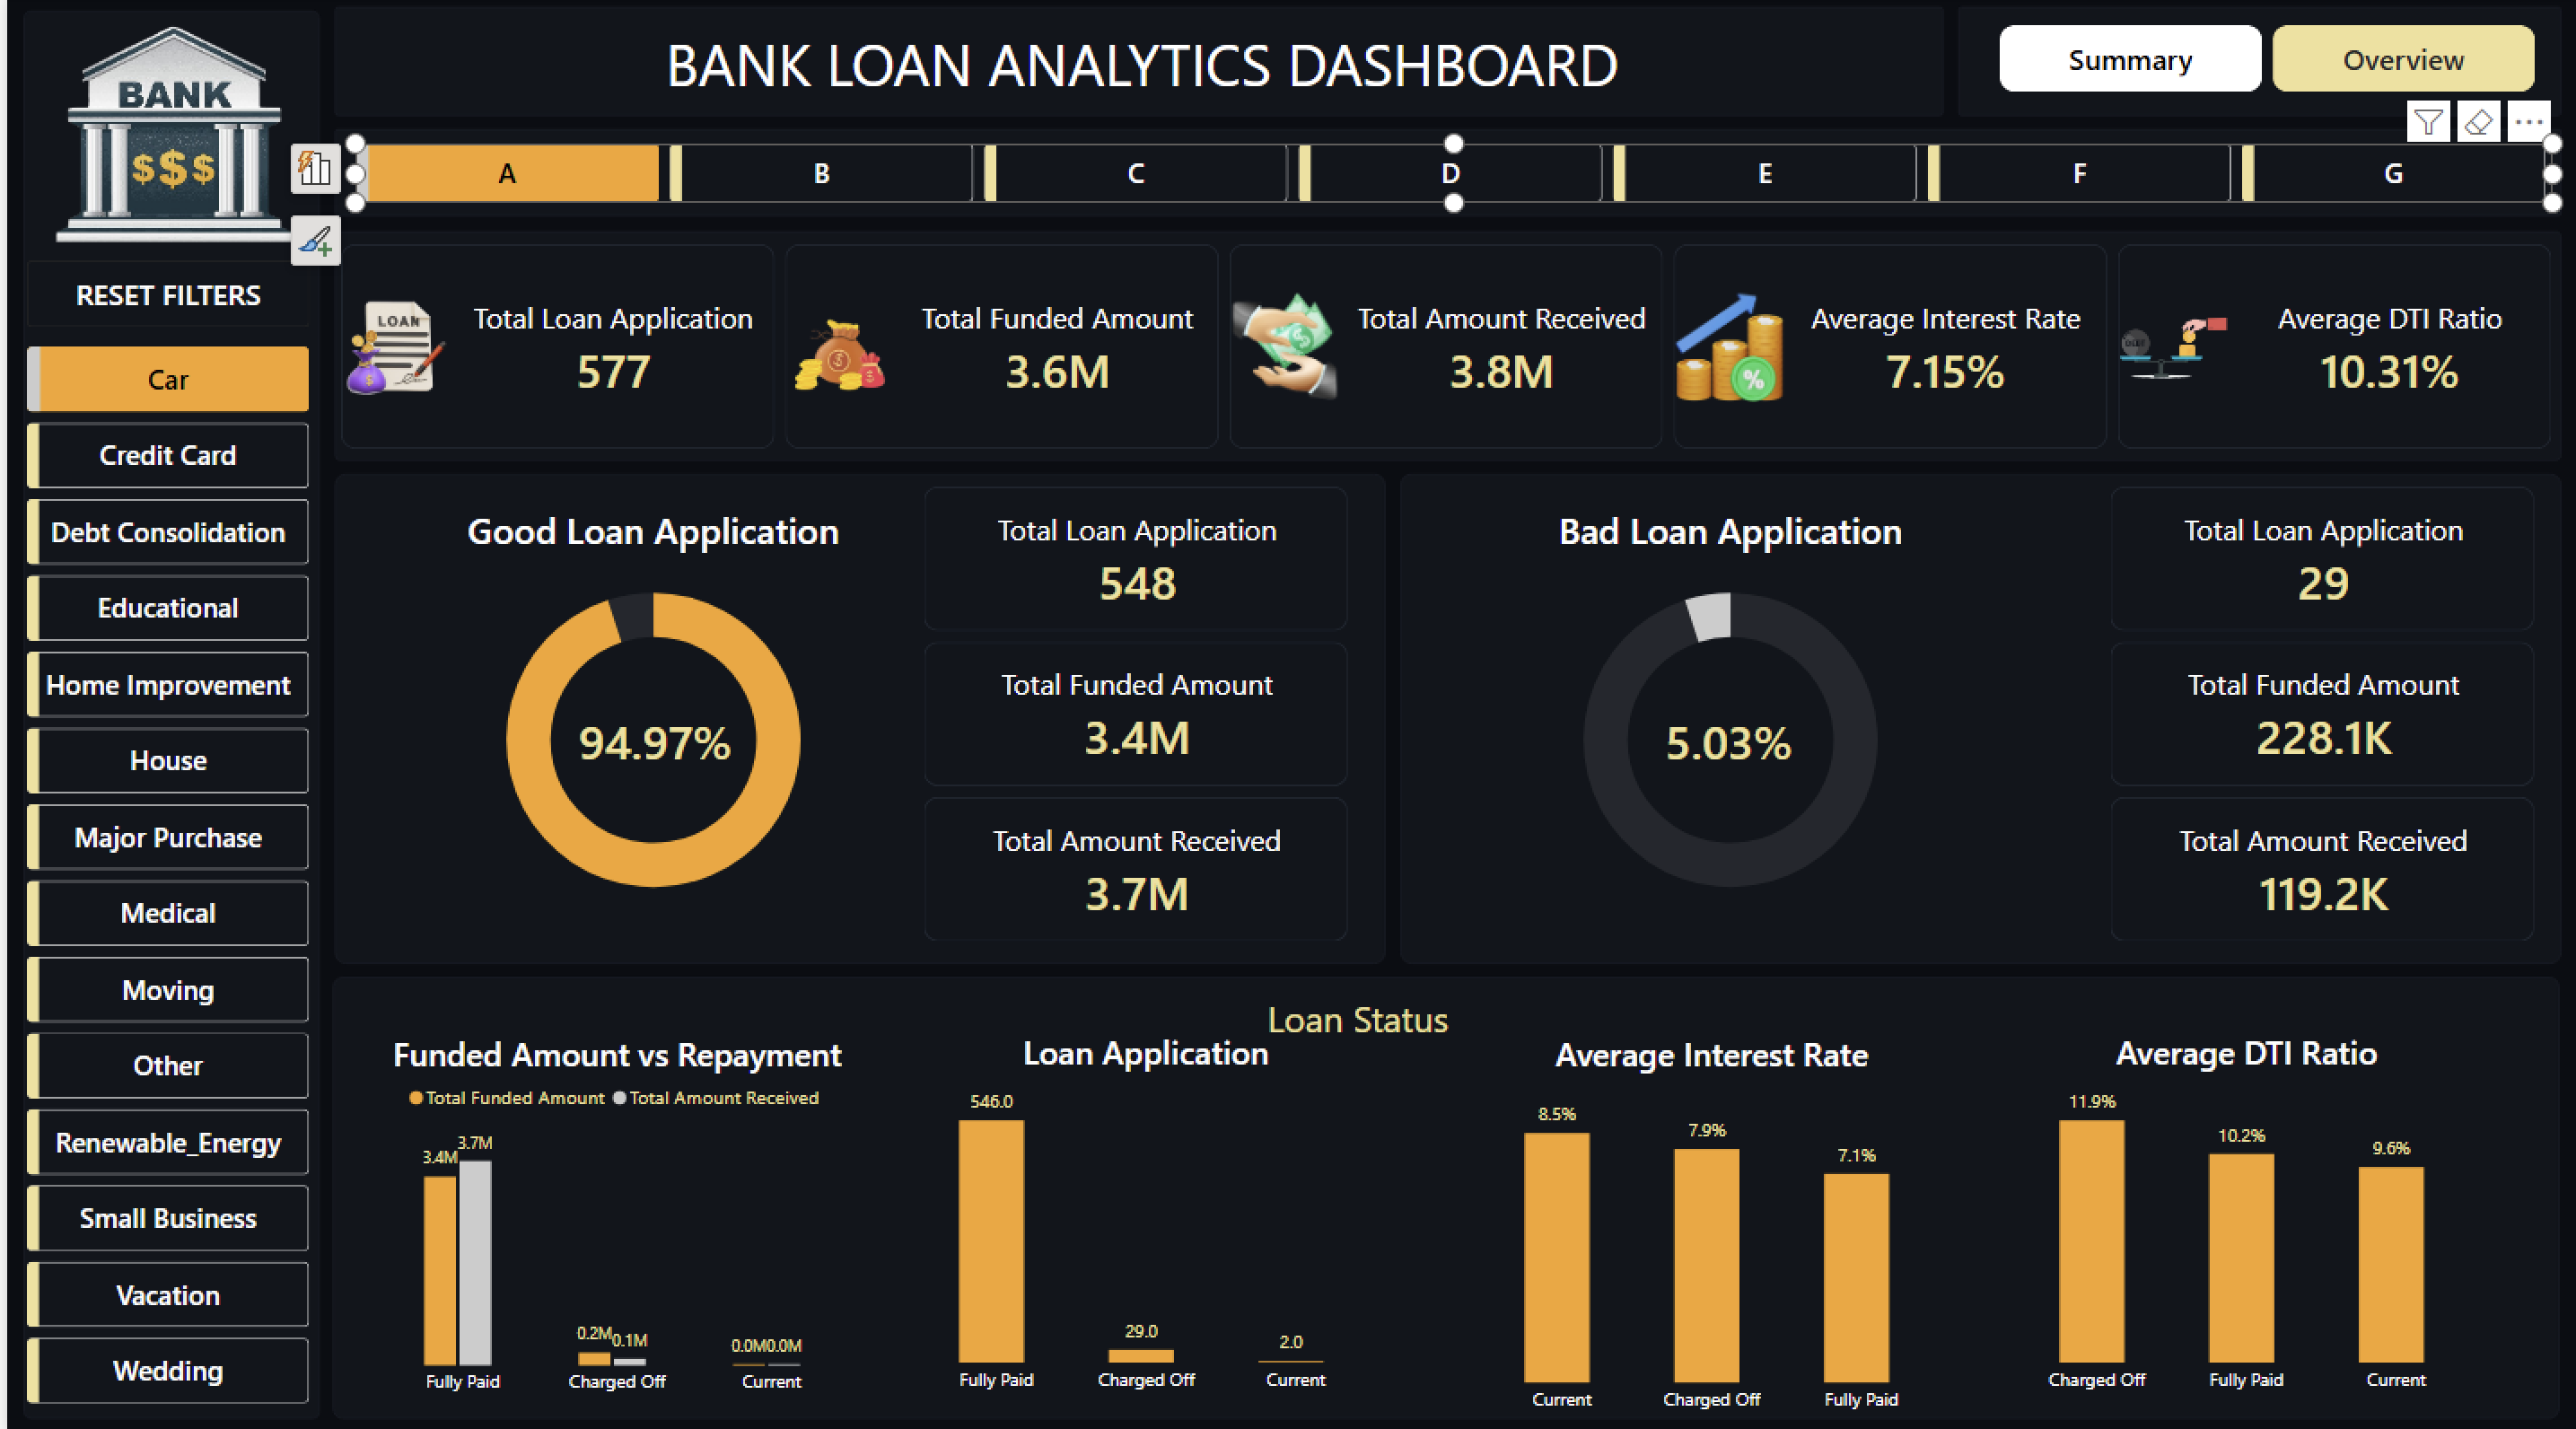

Layout of this report page (visuals, bound fields, positions):
{"tool":"powerbi","page":{"name":"Summary","canvas":[1920,1080],"ordinal":0},"visuals":[{"type":"cardVisual","fields":{"Data":["financial_loan.Total Loan Application","financial_loan.Total Funded Amount","financial_loan.Total Amount Received","financial_loan.Average Interest Rate","financial_loan.Average DTI Rate"]},"box":[250,187.8,1653.3,153.3],"z":0},{"type":"donutChart","title":"Good Loan Application","fields":{"Category":["financial_loan.Good_vs_Bad_Loan"],"Y":["financial_loan.Total Loan Application"]},"box":[272.9,368.6,421.4,342.9],"z":1000},{"type":"donutChart","title":"Bad Loan Application","fields":{"Category":["financial_loan.Good_vs_Bad_Loan"],"Y":["financial_loan.Total Loan Application"]},"box":[1077.1,368.6,421.4,342.9],"z":2000},{"type":"cardVisual","fields":{"Data":["financial_loan.Good Loan %"]},"box":[394.3,514.3,180,88.6],"z":3000},{"type":"cardVisual","fields":{"Data":["financial_loan.Bad Loan %"]},"box":[1197.1,514.3,180,88.6],"z":4000},{"type":"cardVisual","fields":{"Data":["financial_loan.Total Loan Application","financial_loan.Total Funded Amount","financial_loan.Total Amount Received"],"Rows":["financial_loan.Good_vs_Bad_Loan"]},"box":[651.4,368.6,350,342.9],"z":5000},{"type":"cardVisual","fields":{"Data":["financial_loan.Total Loan Application","financial_loan.Total Funded Amount","financial_loan.Total Amount Received"],"Rows":["financial_loan.Good_vs_Bad_Loan"]},"box":[1538.6,368.6,350,342.9],"z":6000},{"type":"clusteredColumnChart","title":"Funded Amount vs Repayment","fields":{"Category":["financial_loan.LOAN_STATUS"],"Y":["financial_loan.Total Funded Amount","financial_loan.Total Amount Received"]},"box":[250,761.4,412.9,305.7],"z":7000},{"type":"clusteredColumnChart","title":"Loan Application","fields":{"Category":["financial_loan.LOAN_STATUS"],"Y":["financial_loan.Total Loan Application"]},"box":[651.2,761.2,401.2,305],"z":8000},{"type":"textbox","box":[941.2,747.5,222.5,112.5],"z":9000},{"type":"clusteredColumnChart","title":"Average Interest Rate","fields":{"Category":["financial_loan.LOAN_STATUS"],"Y":["financial_loan.Average Interest Rate"]},"box":[1072.9,761.4,401.4,318.6],"z":10000},{"type":"clusteredColumnChart","title":"Average DTI Ratio","fields":{"Category":["financial_loan.LOAN_STATUS"],"Y":["financial_loan.Average DTI Ratio"]},"box":[1473.8,761.2,401.2,305],"z":11000},{"type":"image","box":[0,0,250,210],"z":12000},{"type":"advancedSlicerVisual","fields":{"Values":["financial_loan.PURPOSE"]},"box":[14.3,264.3,211.4,802.9],"z":13000},{"type":"advancedSlicerVisual","fields":{"Values":["financial_loan.GRADE"]},"box":[260,113,1643,44],"z":14000},{"type":"actionButton","box":[14.3,200,211.4,50],"z":15000},{"type":"textbox","box":[250,24.3,1197.1,68.6],"z":16000},{"type":"pageNavigator","box":[1488.6,24.3,400,50],"z":17000}]}

Visuals, with their boxes on the page's 1920x1080 design canvas (x1, y1, x2, y2). These are canvas units, not pixel positions in the 2576x1429 screenshot, which may show the page scaled, cropped or inside an application window:
cardVisual - financial_loan.Total Loan Application x financial_loan.Total Funded Amount: box(250, 188, 1903, 341)
"Good Loan Application" donutChart: box(273, 369, 694, 712)
"Bad Loan Application" donutChart: box(1077, 369, 1498, 712)
cardVisual - financial_loan.Good Loan %: box(394, 514, 574, 603)
cardVisual - financial_loan.Bad Loan %: box(1197, 514, 1377, 603)
cardVisual - financial_loan.Total Loan Application x financial_loan.Total Funded Amount: box(651, 369, 1001, 712)
cardVisual - financial_loan.Total Loan Application x financial_loan.Total Funded Amount: box(1539, 369, 1889, 712)
"Funded Amount vs Repayment" clusteredColumnChart: box(250, 761, 663, 1067)
"Loan Application" clusteredColumnChart: box(651, 761, 1052, 1066)
textbox: box(941, 748, 1164, 860)
"Average Interest Rate" clusteredColumnChart: box(1073, 761, 1474, 1080)
"Average DTI Ratio" clusteredColumnChart: box(1474, 761, 1875, 1066)
image: box(0, 0, 250, 210)
advancedSlicerVisual - financial_loan.PURPOSE: box(14, 264, 226, 1067)
advancedSlicerVisual - financial_loan.GRADE: box(260, 113, 1903, 157)
actionButton: box(14, 200, 226, 250)
textbox: box(250, 24, 1447, 93)
pageNavigator: box(1489, 24, 1889, 74)
